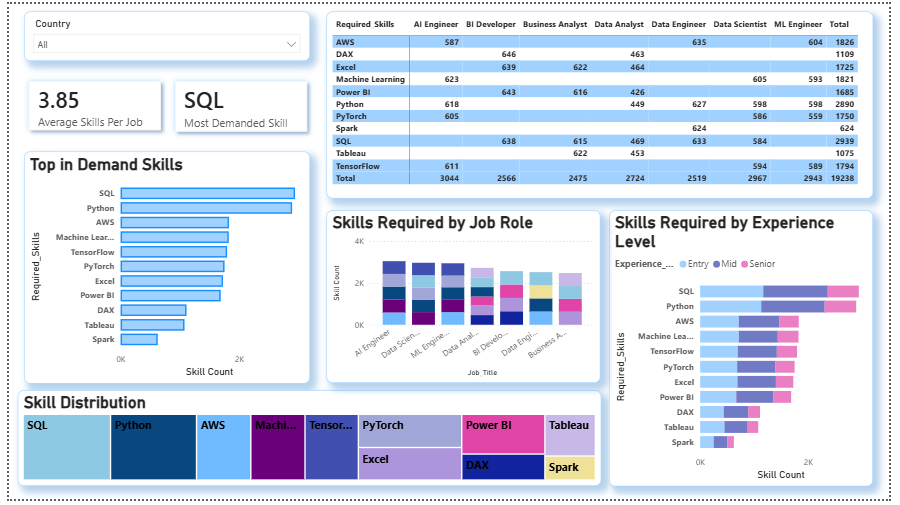

The dashboard page shown, as its layout file describes it:
{"tool":"powerbi","page":{"name":"Skills Analytics","canvas":[1280,720],"ordinal":1},"visuals":[{"type":"cardVisual","fields":{"Data":["Skills Data.Most Demanded Skill"]},"box":[212.5,82.8,250,131.2],"z":1000},{"type":"cardVisual","fields":{"Data":["Skills Data.Average Skills Per Job"]},"box":[0,82.8,250,129.7],"z":2000},{"type":"clusteredBarChart","title":"Top in Demand Skills","fields":{"Category":["Skills Data.Required_Skills"],"Y":["Skills Data.Skill Count"]},"box":[21.9,214.1,415.6,337.5],"z":3000},{"type":"treemap","title":"Skill Distribution","fields":{"Group":["Skills Data.Required_Skills"],"Values":["Skills Data.Skill Count"]},"box":[12.5,562.5,848.4,139.1],"z":4000},{"type":"barChart","title":"Skills Required by Experience Level","fields":{"Category":["Skills Data.Required_Skills"],"Y":["Skills Data.Skill Count"],"Series":["Skills Data.Experience_Level"]},"box":[873.4,300,384.4,401.6],"z":5000},{"type":"columnChart","title":"Skills Required by Job Role","fields":{"Category":["Skills Data.Job_Title"],"Series":["Skills Data.Required_Skills"],"Y":["Skills Data.Skill Count"]},"box":[462.5,300,398.4,251.6],"z":6000},{"type":"pivotTable","fields":{"Rows":["Skills Data.Required_Skills"],"Columns":["Skills Data.Job_Title"],"Values":["Skills Data.Skill Count"]},"box":[462.5,10.9,795.3,271.9],"z":7000},{"type":"slicer","fields":{"Values":["JobData.Country"]},"box":[21.9,10.9,415.6,71.9],"z":8000}]}

Visuals, with their boxes in screenshot pixels (x1, y1, x2, y2), scaled from the page's 1280x720 canvas onto the 900x505 screenshot:
cardVisual - Skills Data.Most Demanded Skill: [left=149, top=58, right=325, bottom=150]
cardVisual - Skills Data.Average Skills Per Job: [left=0, top=58, right=176, bottom=149]
"Top in Demand Skills" clusteredBarChart: [left=15, top=150, right=308, bottom=387]
"Skill Distribution" treemap: [left=9, top=395, right=605, bottom=492]
"Skills Required by Experience Level" barChart: [left=614, top=210, right=884, bottom=492]
"Skills Required by Job Role" columnChart: [left=325, top=210, right=605, bottom=387]
pivotTable - Skills Data.Required_Skills x Skills Data.Job_Title: [left=325, top=8, right=884, bottom=198]
slicer - JobData.Country: [left=15, top=8, right=308, bottom=58]
